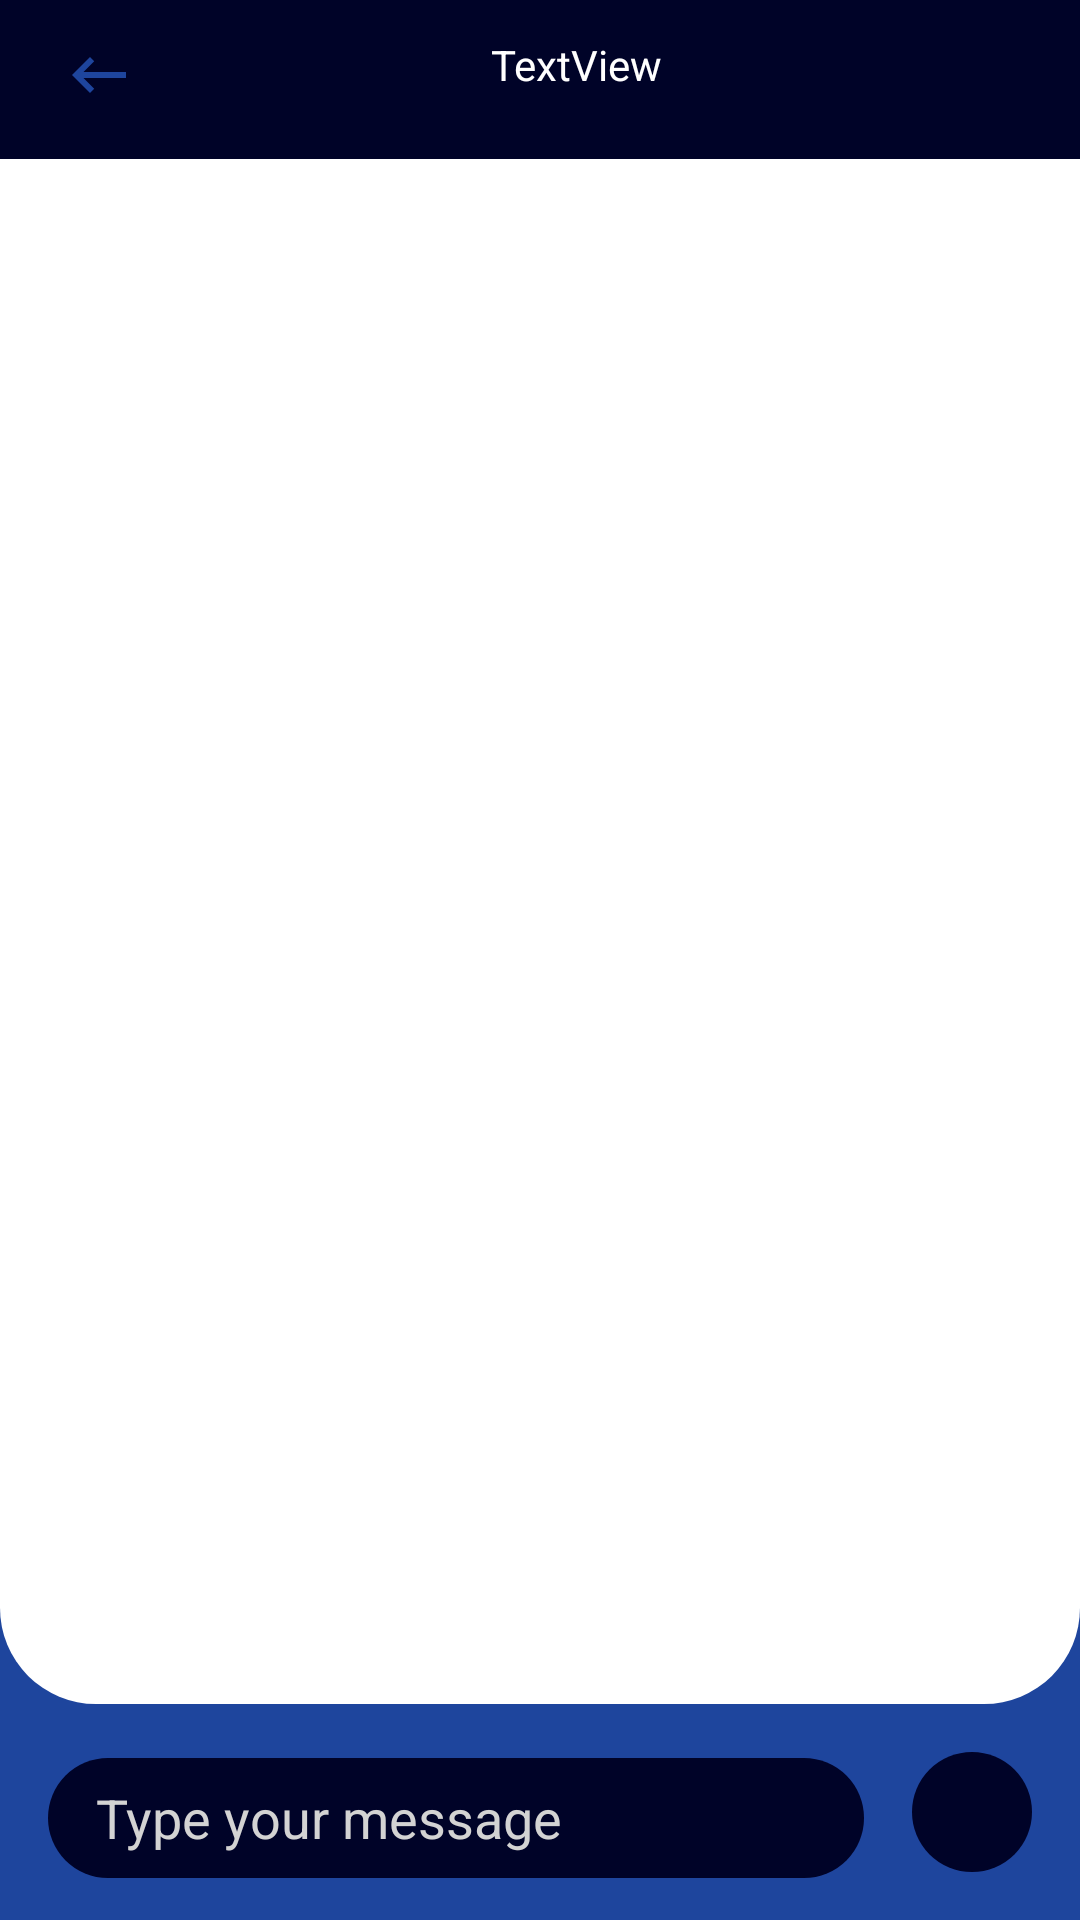

Locate icon controls on the screen. Image size 1080*1920, boxes as (x1, y1, x2, y2).
keyboard backspace: (72, 57, 126, 93)
